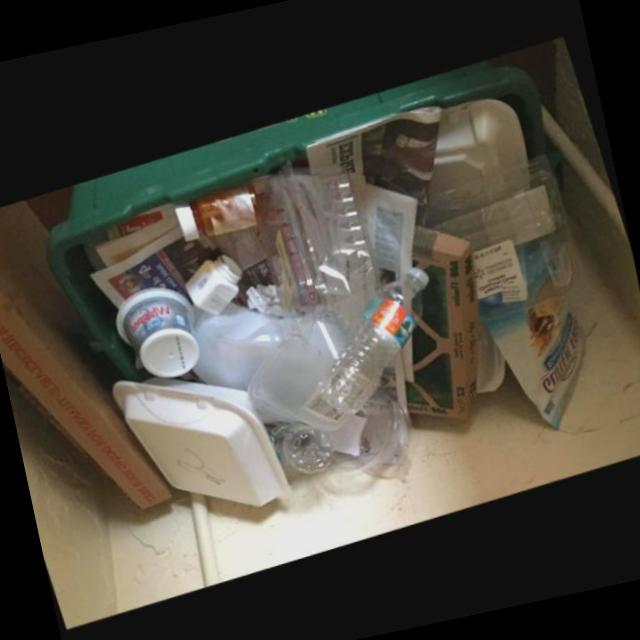bao_bi_thuc_pham: (486, 290, 587, 424)
carton: (0, 199, 174, 507)
chai_nhua_pet: (319, 263, 429, 411), (265, 418, 335, 471)
hop_nhua: (431, 149, 575, 316), (116, 285, 200, 375), (185, 251, 243, 313)
xop: (112, 373, 293, 503), (422, 93, 531, 224)
